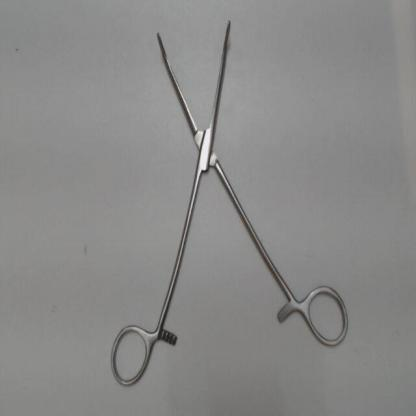Lahey Forceps: (103, 3, 350, 392)
